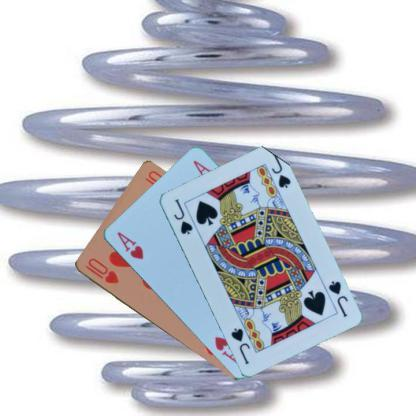10h: (80, 254, 121, 286)
Ah: (114, 228, 144, 262)
Js: (325, 278, 349, 318), (171, 196, 194, 236)
